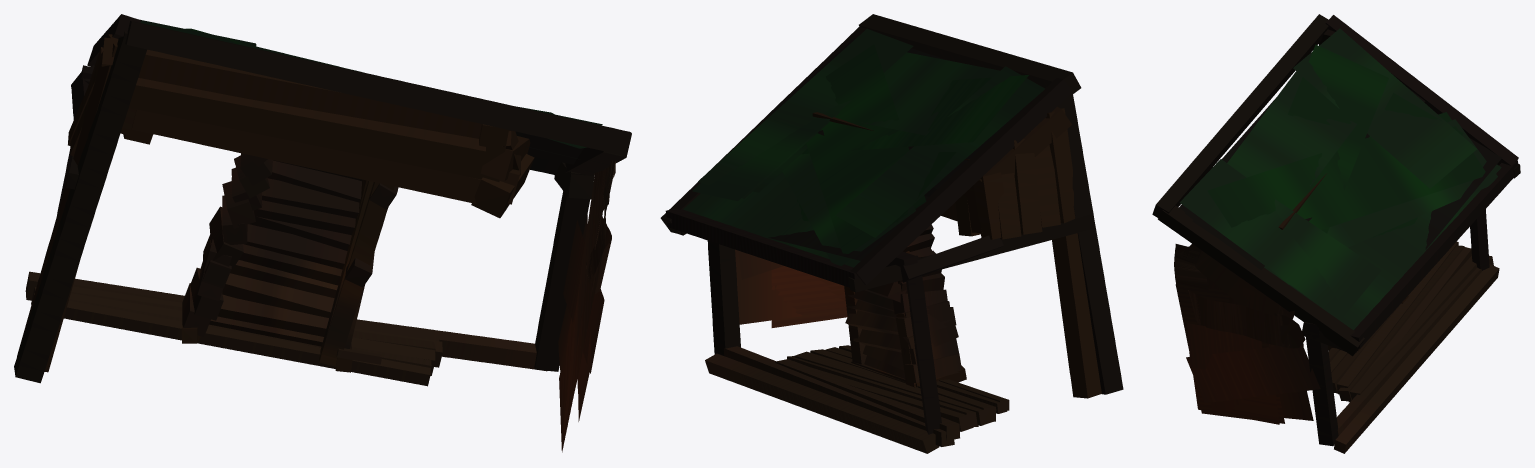
File: Roomb_09_quill.fbx
3 renders of one model, left to right at view 1: azimuth 30°, elevation 25°; view 2: azimuth 150°, elevation 25°; view 3: azimuth 270°, elevation 25°, orthographic. The views are drawn at different scales.
Parts seen in each view (by area): view 1: NewLayer2, NewLayer1; view 2: NewLayer1, NewLayer2; view 3: NewLayer1, NewLayer2.
Part boxes in pixels (box(x1,y1,x2,y2)): NewLayer2: box(14, 14, 631, 383); NewLayer1: box(25, 19, 615, 452); NewLayer1: box(683, 28, 1044, 453); NewLayer2: box(660, 14, 1123, 434); NewLayer1: box(1174, 28, 1501, 453); NewLayer2: box(1152, 14, 1520, 446).
Bounding box in the file's own units: 0.1456 × 0.1131 × 0.1247.
